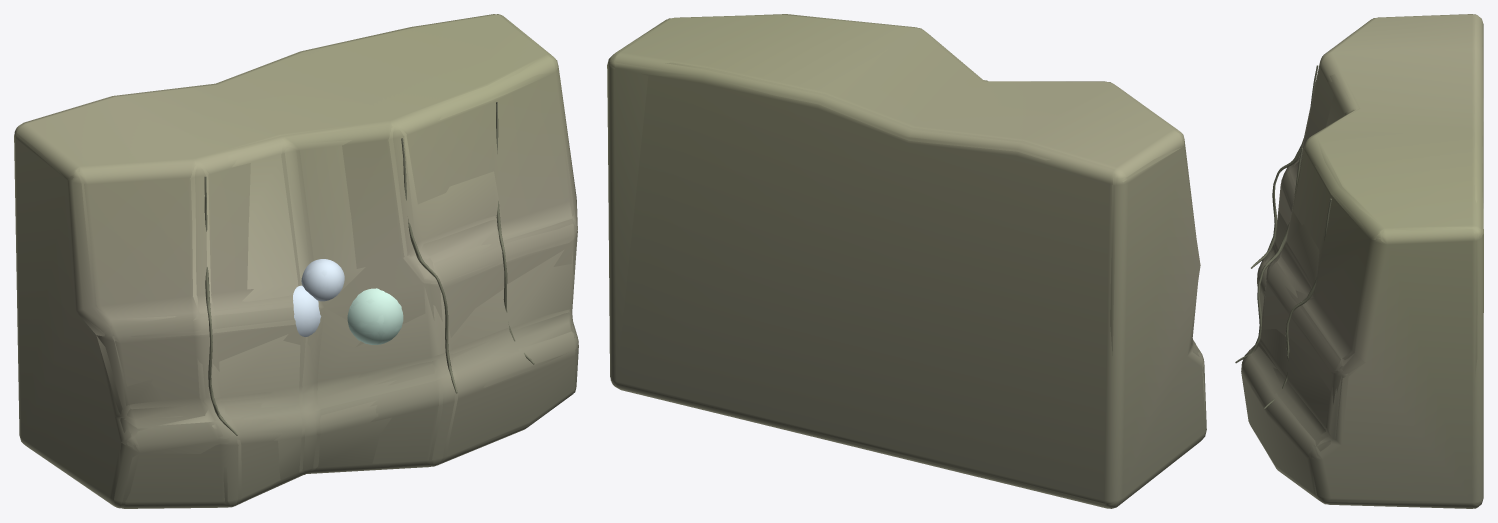
The model's file is environment.glb.
The picture shows the model from 3 angles, left to right: view 1: azimuth 30°, elevation 25°; view 2: azimuth 150°, elevation 25°; view 3: azimuth 270°, elevation 25°; orthographic projection. The views are drawn at different scales.
Visible parts, largest first — view 1: cliff-near, cliff-far, oak-large-crown-near, cliff-medium, oak-large-crown-medium, oak-large-crown-far; view 2: cliff-near, cliff-far; view 3: cliff-near, cliff-far, cliff-medium.
Part boxes in pixels (x1,y1,x2,y2): cliff-near: [14, 14, 578, 508]; cliff-far: [14, 14, 578, 508]; oak-large-crown-near: [293, 259, 403, 344]; cliff-medium: [76, 102, 578, 506]; oak-large-crown-medium: [293, 259, 403, 344]; oak-large-crown-far: [294, 260, 401, 344]; cliff-near: [607, 14, 1206, 508]; cliff-far: [607, 14, 1206, 508]; cliff-near: [1236, 14, 1483, 508]; cliff-far: [1238, 14, 1483, 508]; cliff-medium: [1235, 65, 1364, 459].
Size of the model in its own units: 5.79 by 3.61 by 2.76.
